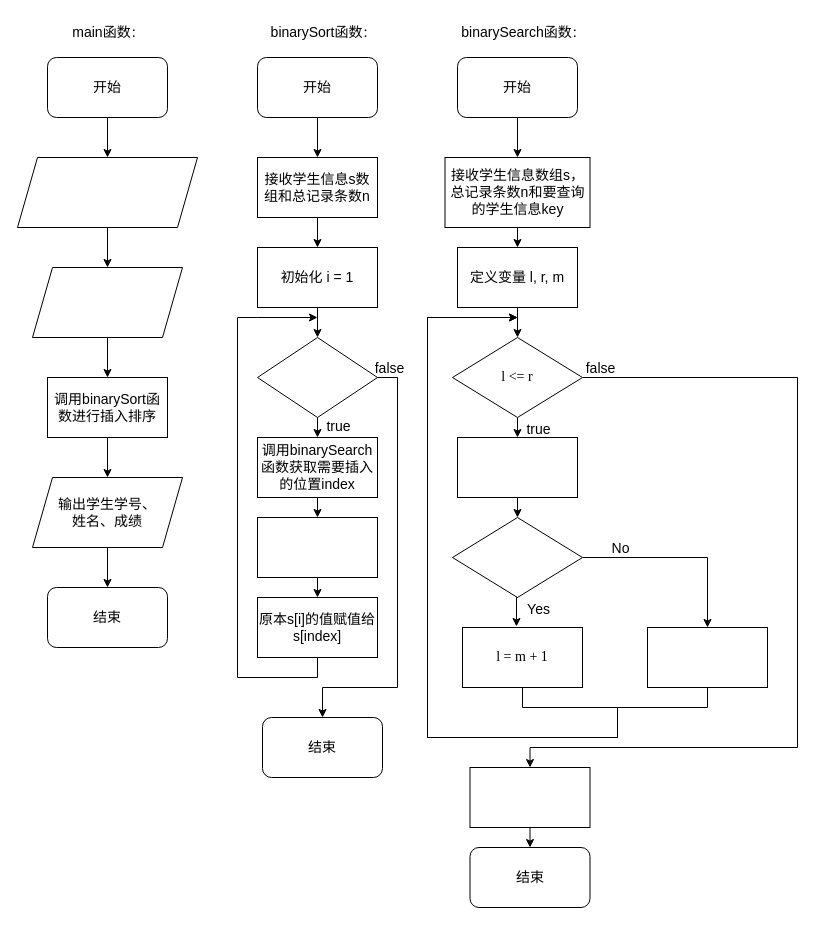
Image size: 823x925. Some labels were removed from this diagram. The shapes that lost their labels are listed below. From the top down, each one's centre as x and y in pixels, then its label:
At point (107, 192): "输入n（纪录的条数）、 c （指定排序的列号）".
At point (107, 302): "输入学生学号、 姓名、成绩".
At point (317, 377): "i < n".
At point (517, 467): "m = (l + r) / 2;".
At point (317, 547): "将原本有序的处于index后的元素后移一位".
At point (517, 557): "cmp(s[m], key)".
At point (707, 657): "r = m - 1".
At point (529, 797): "return l".
